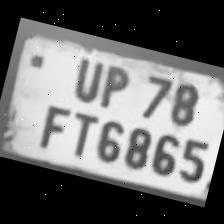5: (172, 130, 214, 186)
6: (88, 114, 128, 166), (143, 126, 182, 179)
7: (129, 68, 174, 122)
8: (162, 74, 204, 130), (116, 119, 156, 173)
F: (30, 98, 74, 154)
P: (92, 58, 137, 114)
T: (58, 104, 100, 160)
U: (66, 50, 108, 104)
